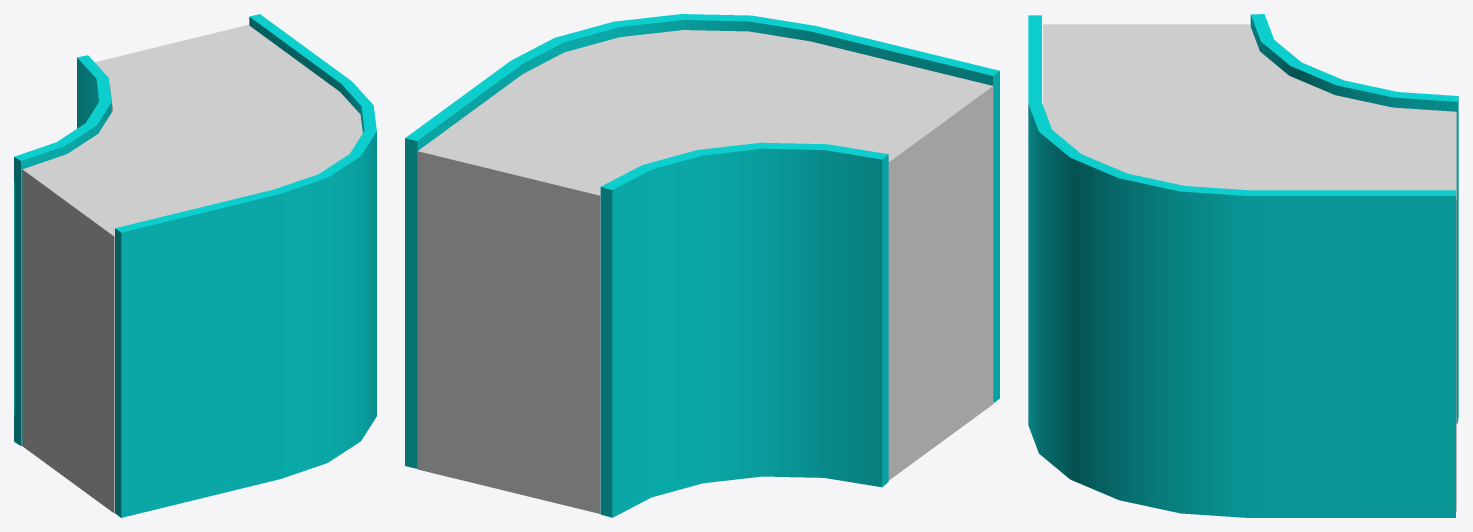
Rendered from SmallLeftRightCurve.fbx.
3 views of the same model, side by side, from view 1: azimuth 30°, elevation 25°; view 2: azimuth 150°, elevation 25°; view 3: azimuth 270°, elevation 25° (orthographic). The views are drawn at different scales.
Parts seen in each view (by area): view 1: pCube63; view 2: pCube63; view 3: pCube63.
Part boxes in pixels (bbox=[...]): pCube63: bbox=[14, 14, 376, 517]; pCube63: bbox=[405, 14, 999, 517]; pCube63: bbox=[1028, 14, 1458, 517].
Bounding box in the file's own units: 62.47 × 51.5 × 62.41.
